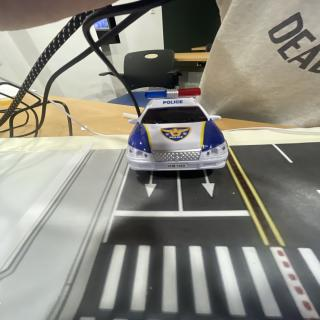Police_car: (126, 88, 228, 171)
